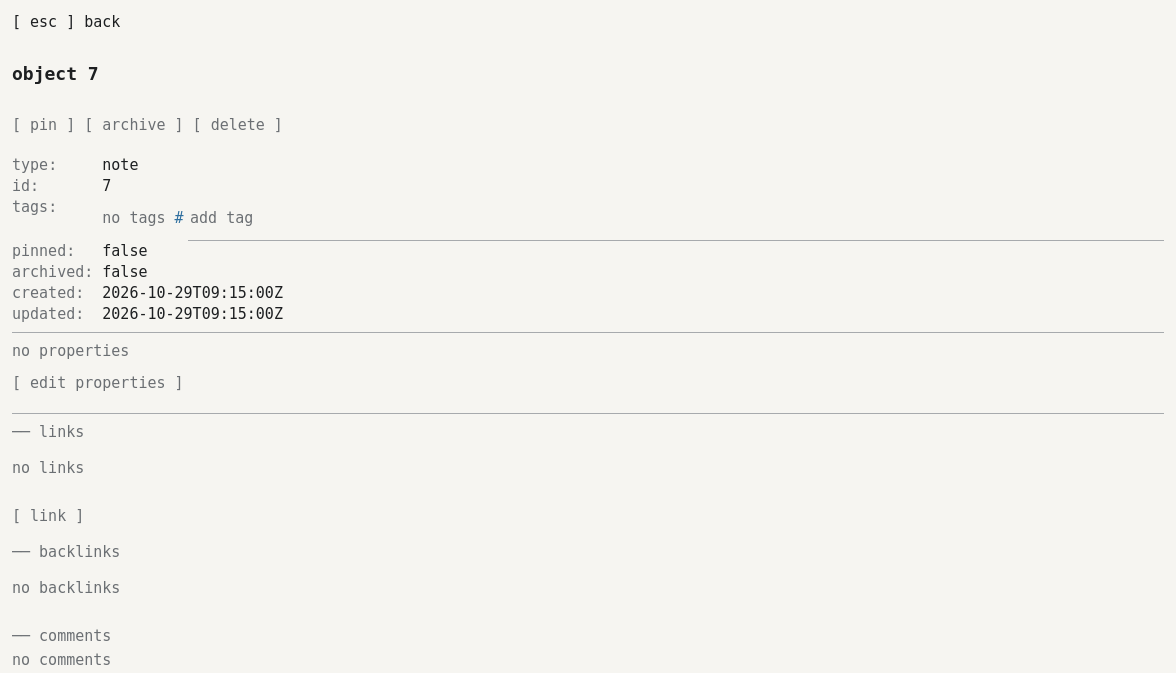
Test case: tags › shows the server 400 text inline
The image size is (1176, 673).
Check: the heading "object 7" is shown, box x1=12 y1=52 x2=99 y2=96
In the field labelled "add tag": coordinates (676, 218) x1=188 y1=196 x2=1164 y2=240, type "a//b"
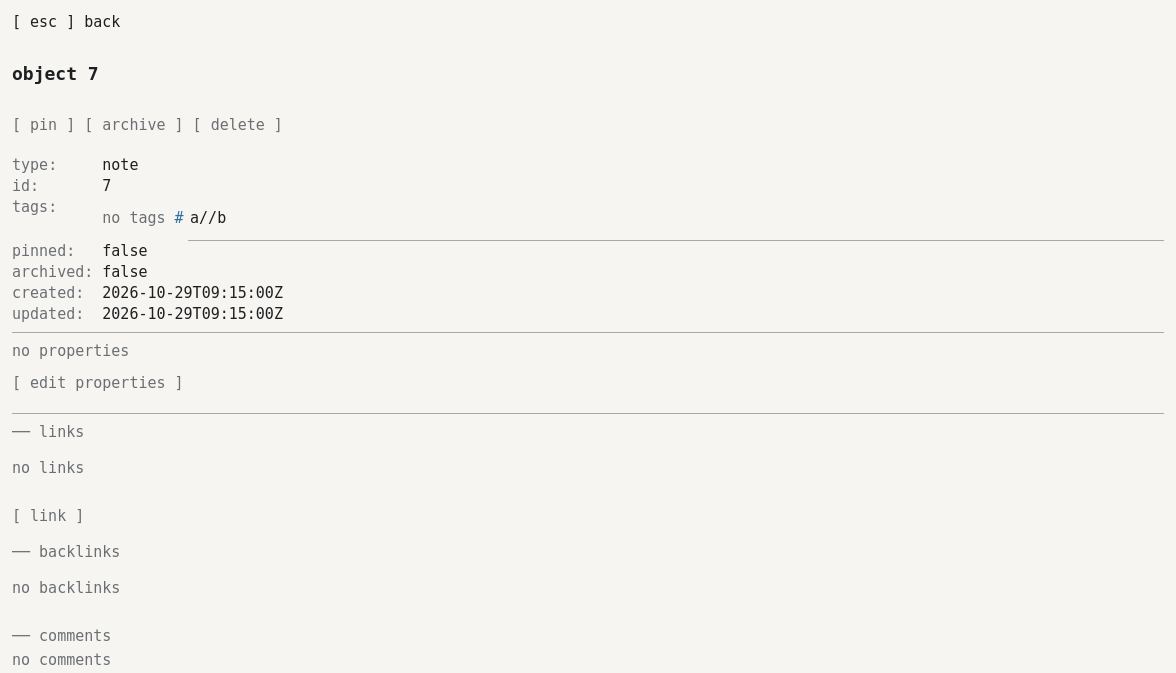
Submit the form from the field named "add tag", box x1=188 y1=196 x2=1164 y2=240
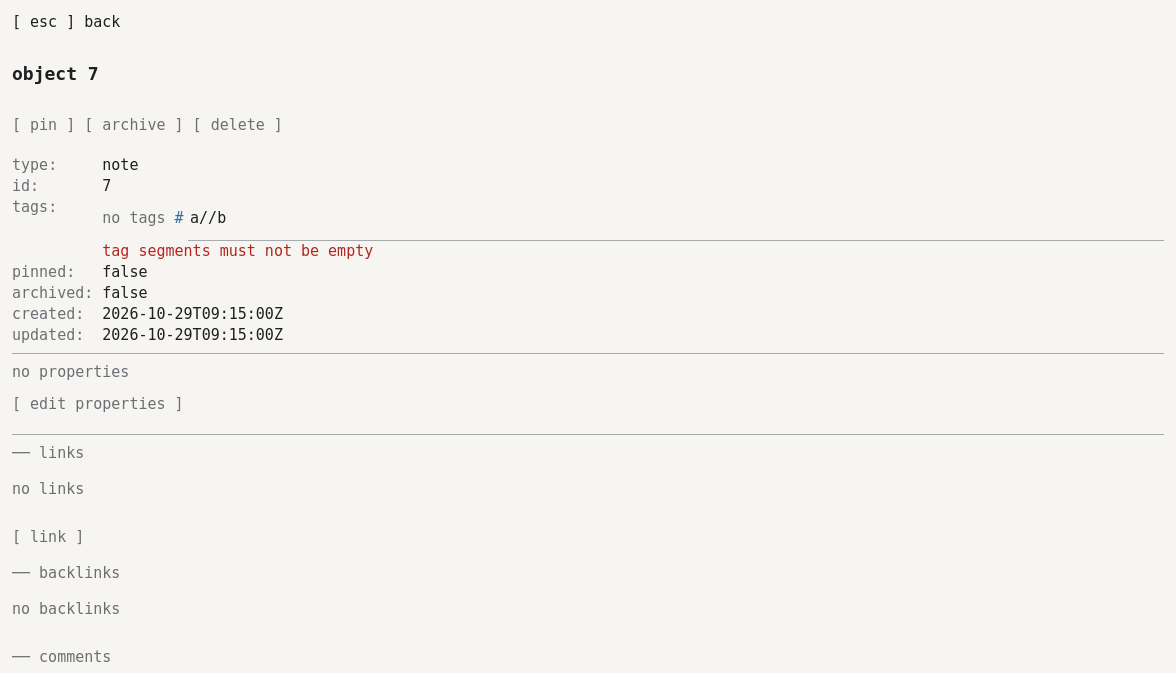
Check: the message reads "tag segments must not be empty", box x1=102 y1=242 x2=373 y2=260
